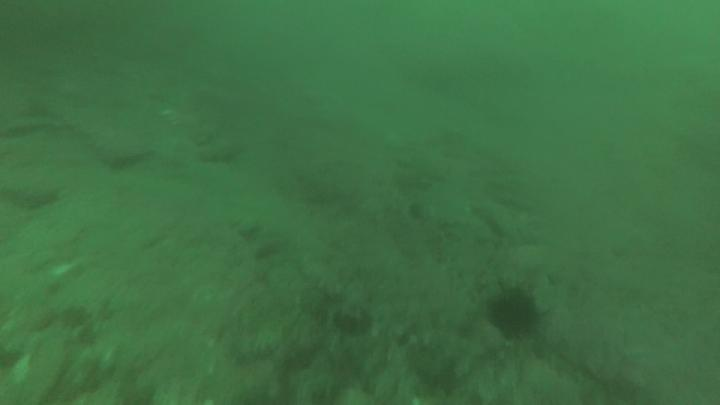echinus: (486, 290, 540, 338)
